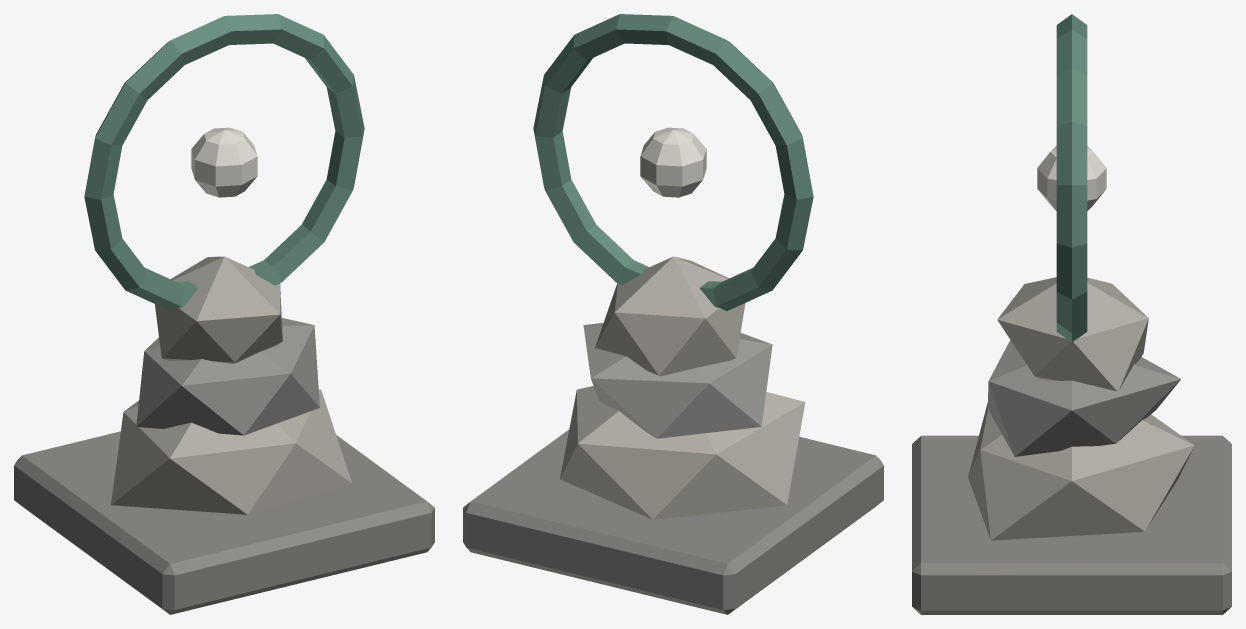
Rendered from sculpture.glb.
3 renders of one model, left to right at view 1: azimuth 30°, elevation 25°; view 2: azimuth 150°, elevation 25°; view 3: azimuth 270°, elevation 25°, orthographic.
Parts seen in each view (by area): view 1: sculpture; view 2: sculpture; view 3: sculpture.
Boxes of the visible parts, x1,y1,x2,y2 form: sculpture: [14, 14, 434, 614]; sculpture: [463, 14, 883, 614]; sculpture: [912, 14, 1231, 614].
Bounding box in the file's own units: 1.44 × 2.52 × 1.4.
